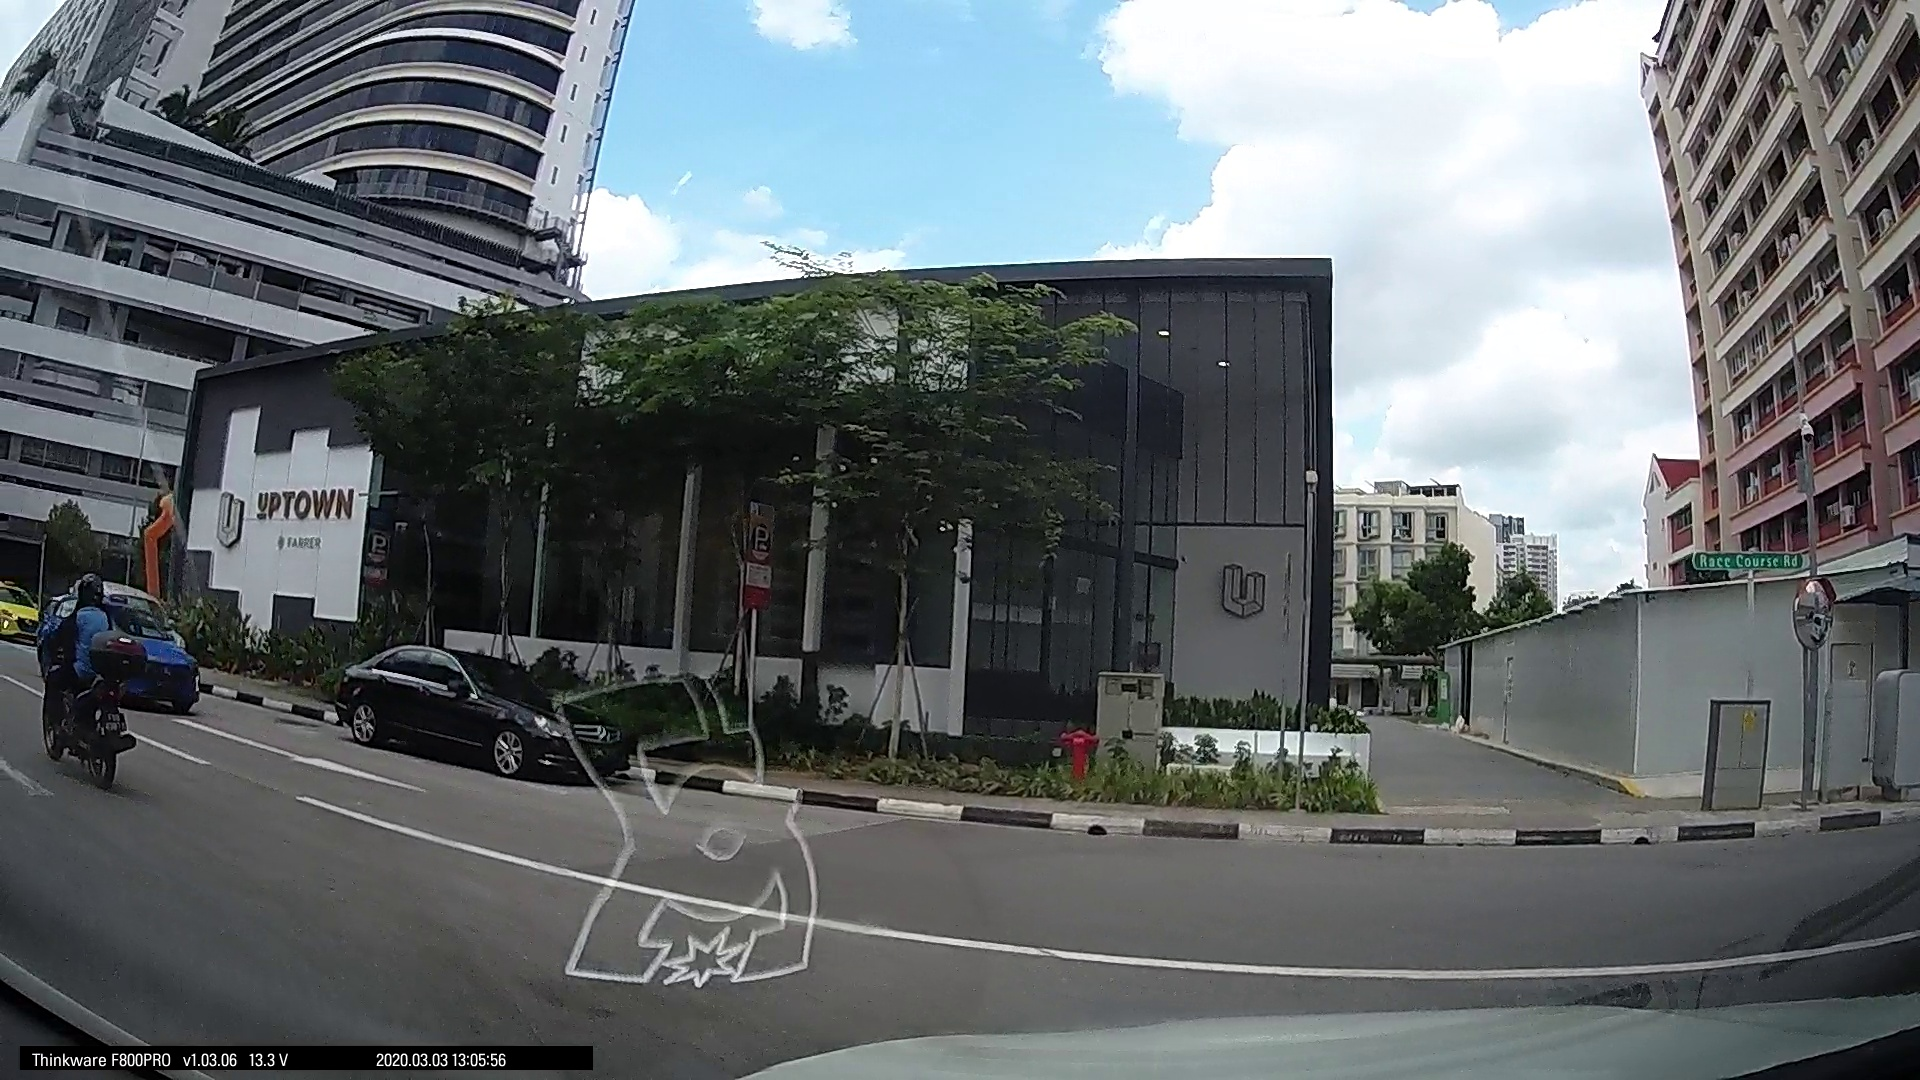Heavy Vehicle: (1408, 611, 1627, 811)
Light Vehicle: (8, 448, 583, 1029), (551, 642, 824, 866), (1007, 658, 1048, 695)
